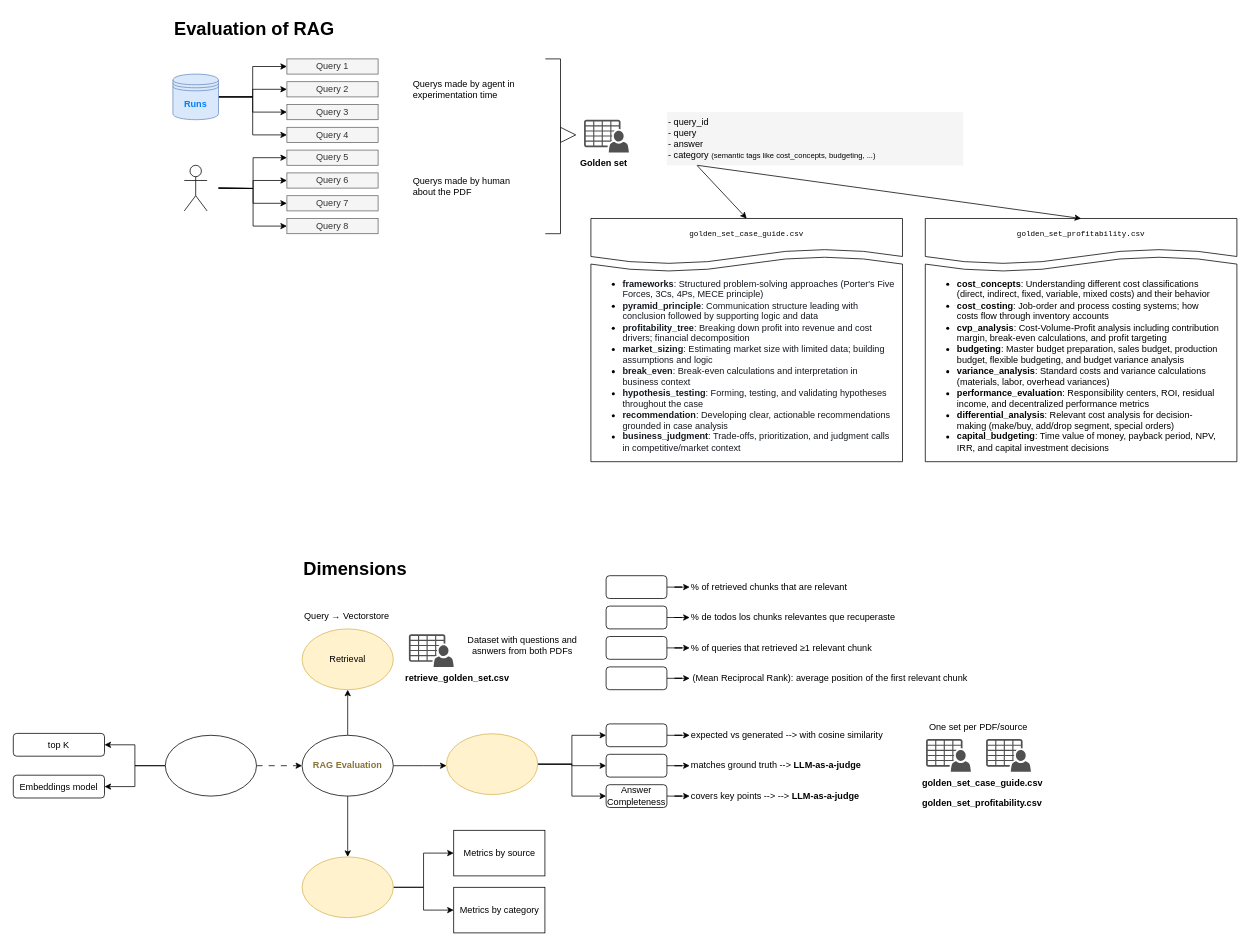
Image size: 1250x946. Some labels were removed from this diagram. Here are the shapes that lost their labels. From the top down, the centre of each, then its label:
point (195, 188): Human
point (636, 586): Precision@K
point (636, 617): Recall@K
point (636, 647): Hit Rate
point (636, 678): MMR
point (636, 735): Semantic Similarity
point (210, 765): Test Parameters
point (492, 764): Generations
point (636, 765): Factual Correctness
point (347, 887): Aggregation
